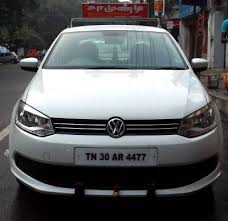T: (84, 151, 91, 163)
